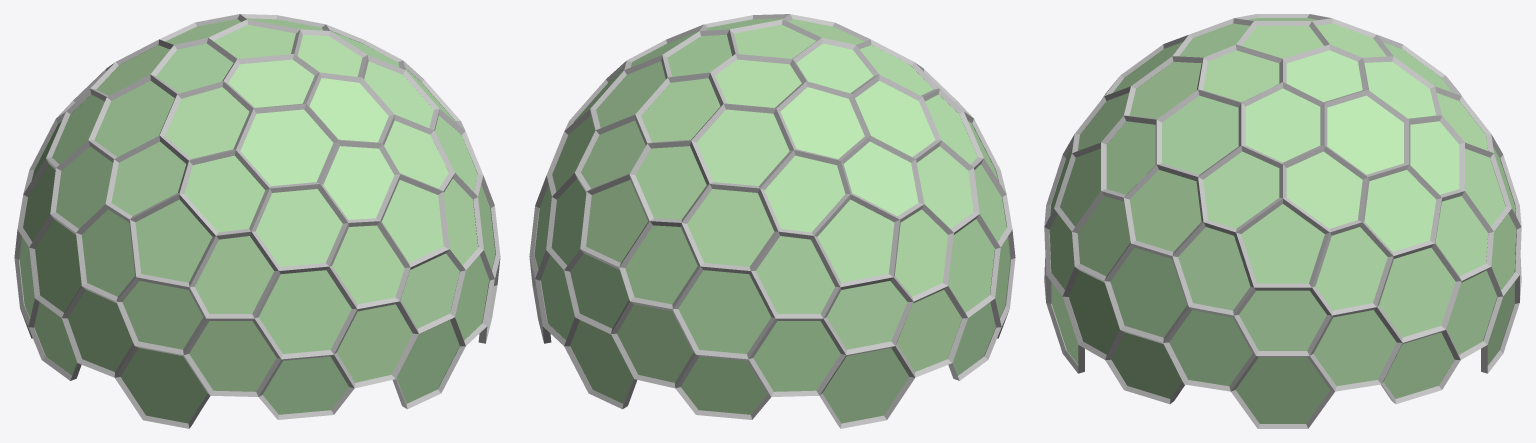
File: Cristapanal.fbx
3 views of the same model, side by side, from view 1: azimuth 30°, elevation 25°; view 2: azimuth 150°, elevation 25°; view 3: azimuth 270°, elevation 25° (orthographic).
Parts seen in each view (by area): view 1: Cristapanal; view 2: Cristapanal; view 3: Cristapanal.
Part boxes in pixels (bbox=[...]): Cristapanal: bbox=[14, 14, 500, 428]; Cristapanal: bbox=[529, 14, 1015, 428]; Cristapanal: bbox=[1044, 14, 1521, 428].
Bounding box in the file's own units: 4242 × 2888 × 4213.
